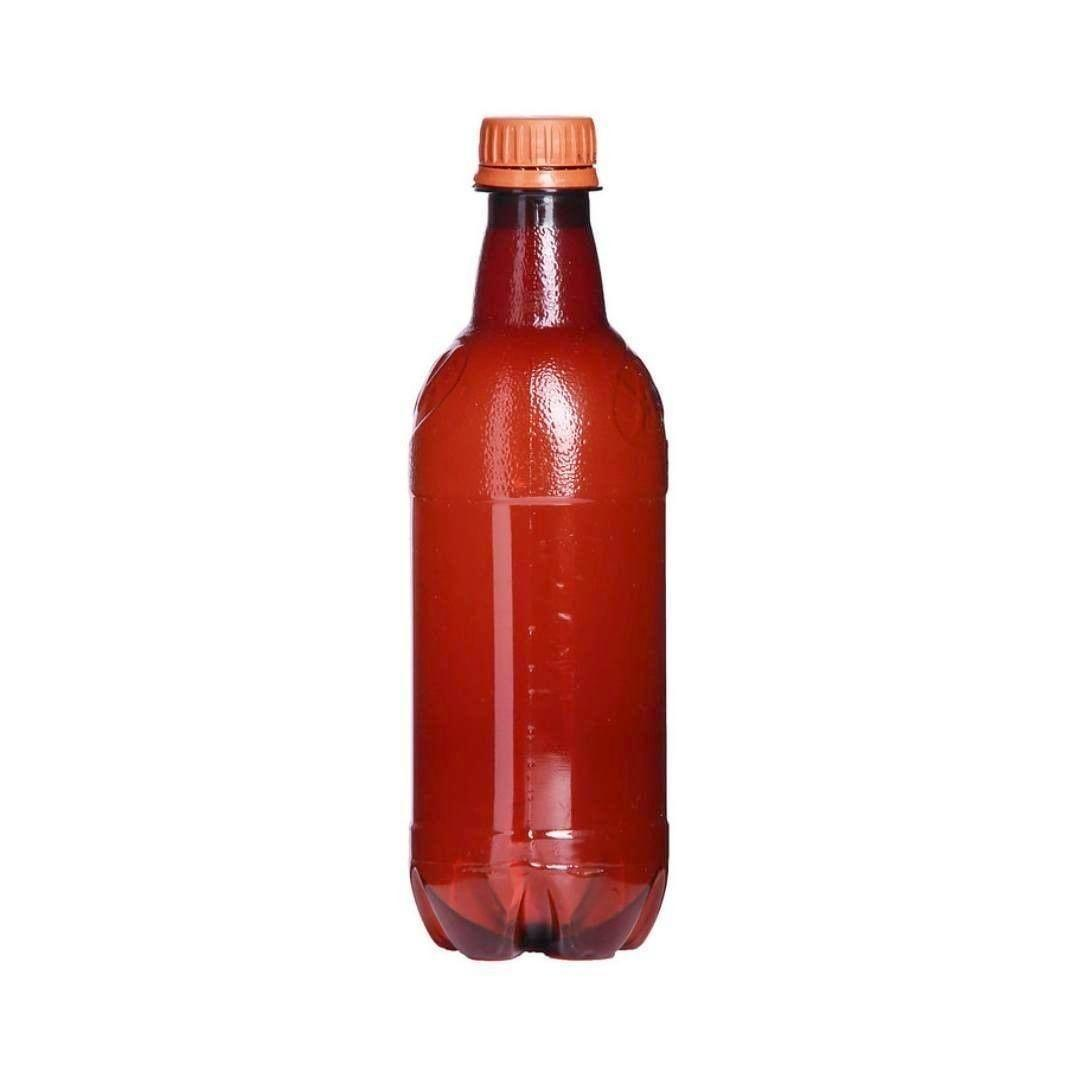bottle-plastic: (386, 95, 683, 975)
